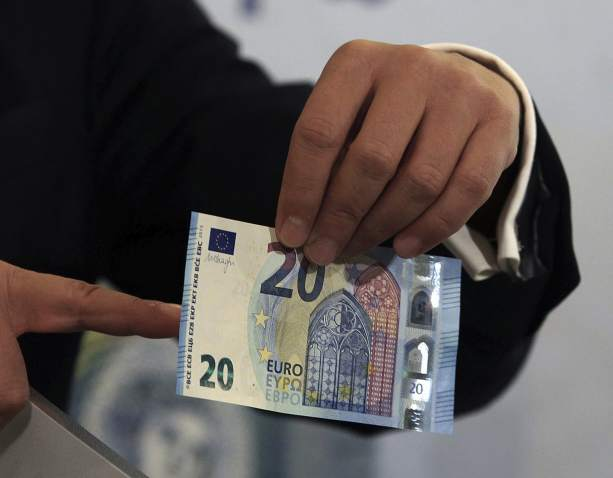billete: (173, 207, 463, 436)
